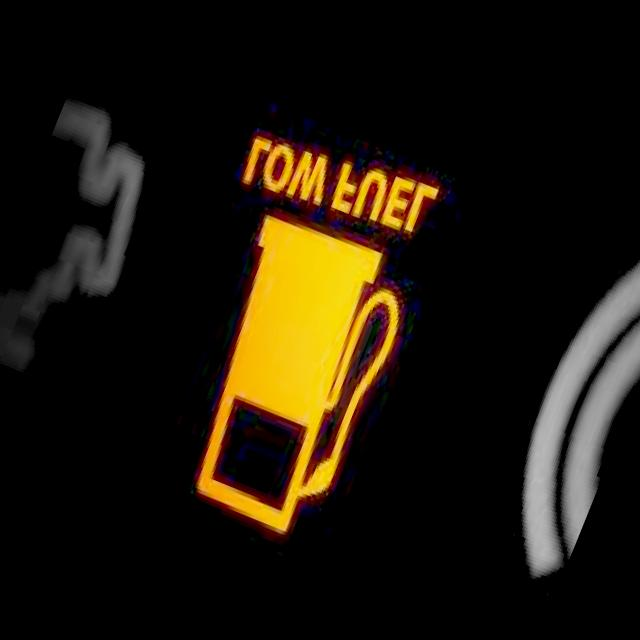kontrolka: (114, 182, 441, 578)
